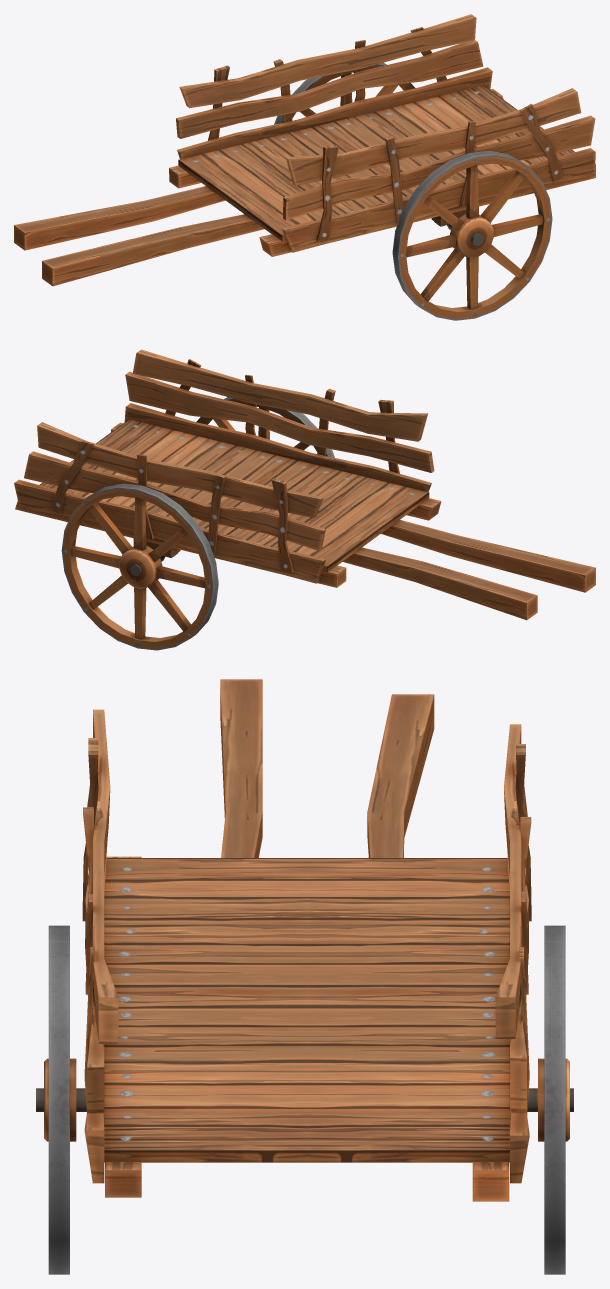
The model's file is Pushcart02.FBX.
The picture shows the model from 3 angles, top to bottom: view 1: azimuth 30°, elevation 25°; view 2: azimuth 150°, elevation 25°; view 3: azimuth 270°, elevation 25°; orthographic projection. The views are drawn at different scales.
Visible parts, largest first — view 1: Pushcart02; view 2: Pushcart02; view 3: Pushcart02.
Part boxes in pixels (x1,y1,x2,y2): Pushcart02: [14, 14, 595, 320]; Pushcart02: [14, 349, 595, 650]; Pushcart02: [36, 679, 573, 1274].
Size of what is drawn, in the model's own units: 4.18 by 1.52 by 1.91.
